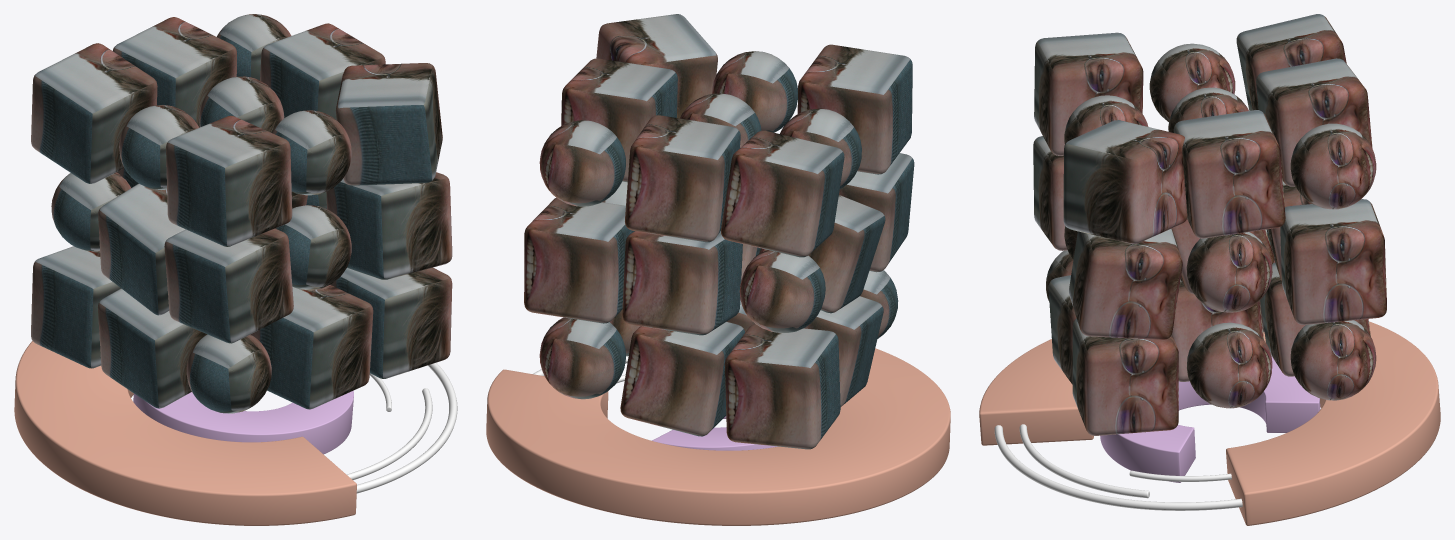
File: MyHeadOnSculp.glb
3 views of the same model, side by side, from view 1: azimuth 30°, elevation 25°; view 2: azimuth 150°, elevation 25°; view 3: azimuth 270°, elevation 25° (orthographic).
Parts seen in each view (by area): view 1: Objectabstract; view 2: Objectabstract; view 3: Objectabstract.
Boxes of the visible parts, x1,y1,x2,y2 form: Objectabstract: (14,14,457,525); Objectabstract: (486,14,950,525); Objectabstract: (979,14,1440,525).
Size of the model in its own units: 0.3328 by 0.294 by 0.3358.
Materials: 4 (1 with a texture image).
